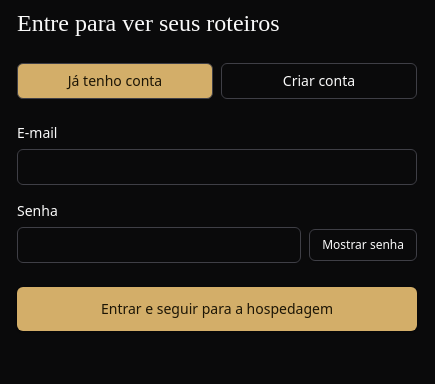
it: LoginScreen (T-LOGIN, V2-L7-T05, RF-17.7) › erro inesperado de `signIn` (rede/servidor) mostra mensagem de erro de servidor
In the field labelled "E-mail": {"x": 217, "y": 167} [17,149,417,185], type "ana@example.com"
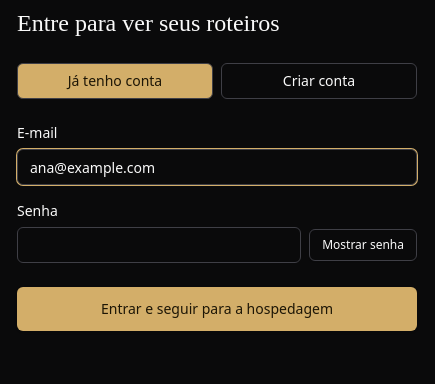
In the password field labelled "Senha": {"x": 159, "y": 245} [17,227,301,263], type "senha1234"
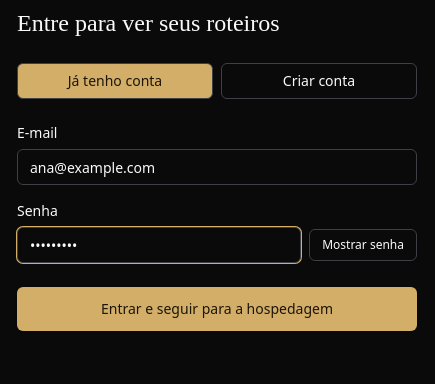
Click the button "Entrar e seguir para a hospedagem": {"x": 217, "y": 309} [17,287,417,331]
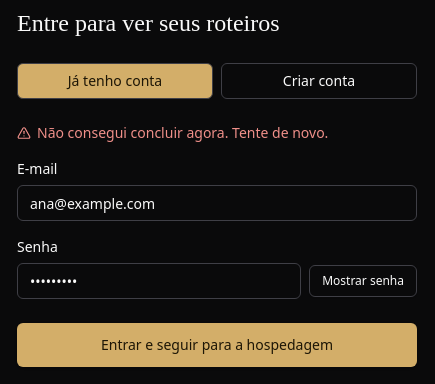
Expected: the message shows "Não consegui concluir agora.", [37,123,328,142]
